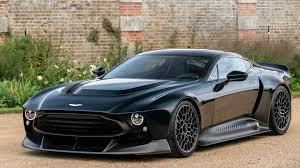car: (15, 44, 294, 161)
